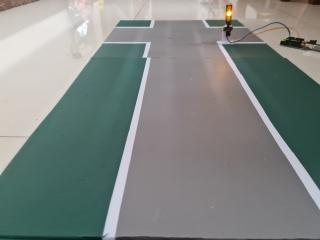yellow: (219, 1, 239, 27)
